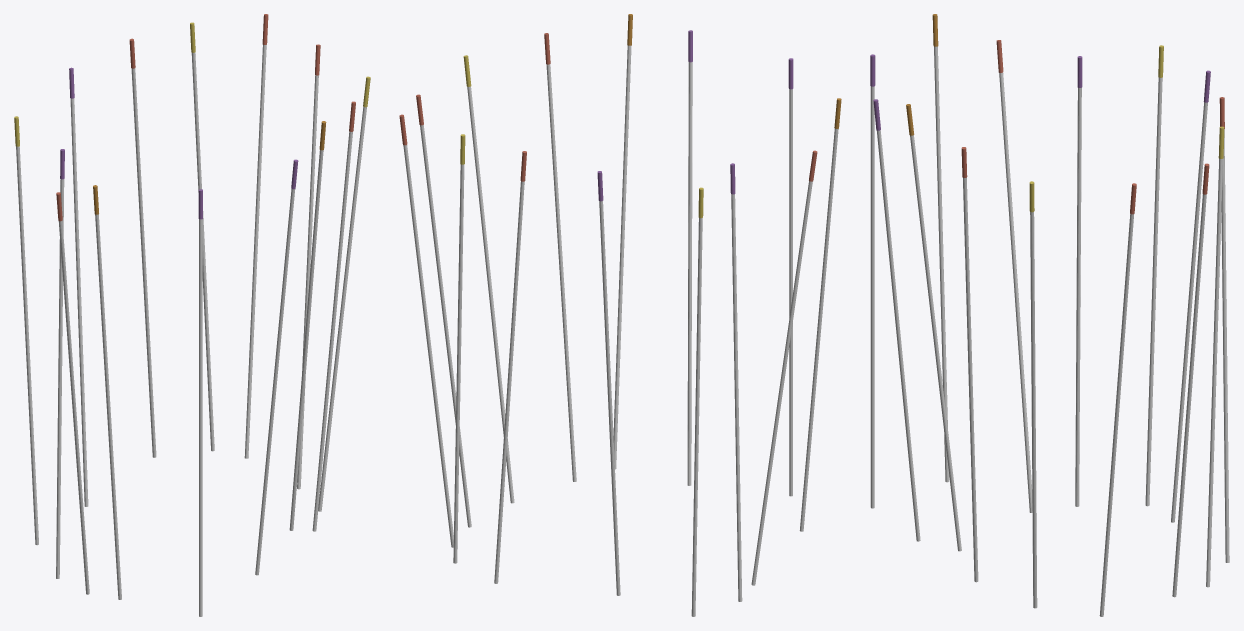
File: electrodes1.glb
3 renders of one model, left to right at view 1: azimuth 30°, elevation 25°; view 2: azimuth 150°, elevation 25°; view 3: azimuth 270°, elevation 25°, orthographic. The views are drawn at different scales.
Parts seen in each view (by area): view 1: Electrode_5_Tip, Electrode_3_Tip.001, Electrode_6_Tip, Electrode_5_Tip.001, Electrode_2_Tip, Electrode_5_Tip.003, Electrode_3_Tip.002, Electrode_4_Tip.001, Electrode_4_Tip, Electrode_5_Tip.002, Electrode_3_Tip, Electrode_2_Tip.001 (+2 smaller); view 2: Electrode_3_Tip.002, Electrode_5_Tip.001, Electrode_4_Tip, Electrode_5_Tip.002, Electrode_3_Tip.003, Electrode_4_Tip.001, Electrode_5_Tip.003, Electrode_5_Tip, Electrode_2_Tip, Electrode_6_Tip, Electrode_2_Tip.001, Electrode_3_Tip.001 (+2 smaller); view 3: Electrode_3_Tip, Electrode_5_Tip.002, Electrode_2_Tip, Electrode_2_Tip.001, Electrode_3_Tip.003, Electrode_3_Tip.001, Electrode_4_Tip, Electrode_3_Tip.002, Electrode_5_Tip, Electrode_5_Tip.001, Electrode_5_Tip.004, Electrode_6_Tip (+2 smaller).
Boxes of the visible parts, left/top/right/bottom form: Electrode_5_Tip: left=244, top=14, right=268, bottom=458; Electrode_3_Tip.001: left=69, top=67, right=88, bottom=506; Electrode_6_Tip: left=318, top=76, right=370, bottom=511; Electrode_5_Tip.001: left=312, top=101, right=355, bottom=531; Electrode_2_Tip: left=14, top=116, right=38, bottom=545; Electrode_5_Tip.003: left=129, top=38, right=156, bottom=457; Electrode_3_Tip.002: left=255, top=159, right=298, bottom=575; Electrode_4_Tip.001: left=93, top=185, right=121, bottom=599; Electrode_4_Tip: left=289, top=121, right=326, bottom=530; Electrode_5_Tip.002: left=56, top=192, right=89, bottom=594; Electrode_3_Tip: left=198, top=189, right=202, bottom=616; Electrode_2_Tip.001: left=190, top=22, right=214, bottom=451; Electrode_3_Tip.002: left=687, top=30, right=692, bottom=485; Electrode_5_Tip.001: left=544, top=33, right=576, bottom=481; Electrode_4_Tip: left=613, top=14, right=632, bottom=469; Electrode_5_Tip.002: left=751, top=150, right=817, bottom=585; Electrode_3_Tip.003: left=730, top=163, right=742, bottom=601; Electrode_4_Tip.001: left=799, top=98, right=841, bottom=531; Electrode_5_Tip.003: left=494, top=151, right=526, bottom=583; Electrode_5_Tip: left=399, top=114, right=453, bottom=547; Electrode_2_Tip: left=691, top=187, right=703, bottom=616; Electrode_6_Tip: left=463, top=55, right=514, bottom=503; Electrode_2_Tip.001: left=453, top=134, right=465, bottom=563; Electrode_3_Tip.001: left=597, top=171, right=620, bottom=595; Electrode_3_Tip: left=870, top=54, right=875, bottom=508; Electrode_5_Tip.002: left=996, top=40, right=1032, bottom=512; Electrode_2_Tip: left=1145, top=45, right=1163, bottom=506; Electrode_2_Tip.001: left=1206, top=126, right=1224, bottom=587; Electrode_3_Tip.003: left=1075, top=56, right=1082, bottom=506; Electrode_3_Tip.001: left=1171, top=70, right=1210, bottom=522; Electrode_4_Tip: left=906, top=104, right=961, bottom=551; Electrode_3_Tip.002: left=873, top=99, right=920, bottom=541; Electrode_5_Tip: left=1172, top=163, right=1209, bottom=597; Electrode_5_Tip.001: left=961, top=147, right=978, bottom=582; Electrode_5_Tip.004: left=1099, top=183, right=1136, bottom=616; Electrode_6_Tip: left=1029, top=181, right=1037, bottom=608.
Bounding box in the file's own units: 3.03 × 4.15 × 2.7.
